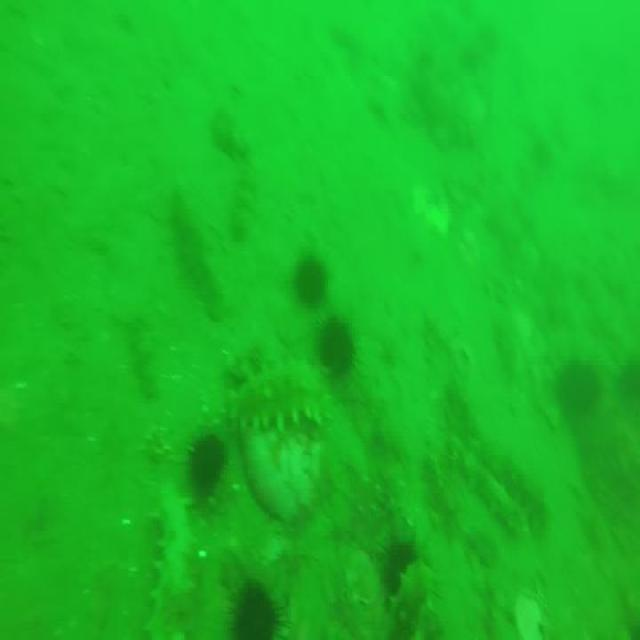echinus: (314, 312, 357, 391), (227, 581, 281, 640), (189, 433, 227, 503), (380, 531, 420, 597), (556, 362, 602, 415), (295, 251, 326, 310)
holothurian: (454, 435, 551, 545), (142, 494, 197, 640), (228, 362, 330, 433)
scallop: (516, 586, 544, 640)
